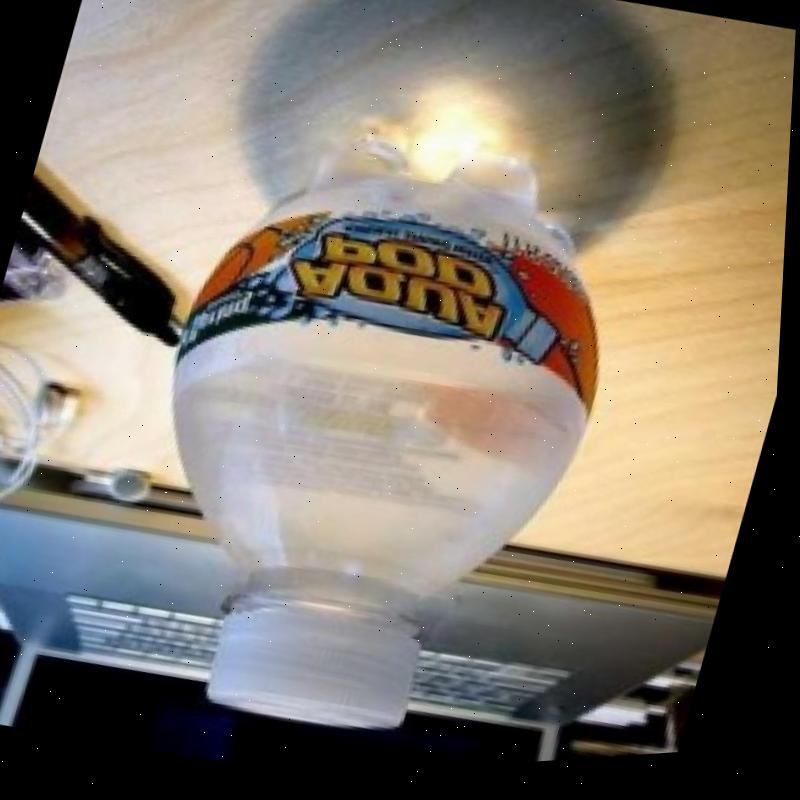botella: (79, 92, 666, 785)
